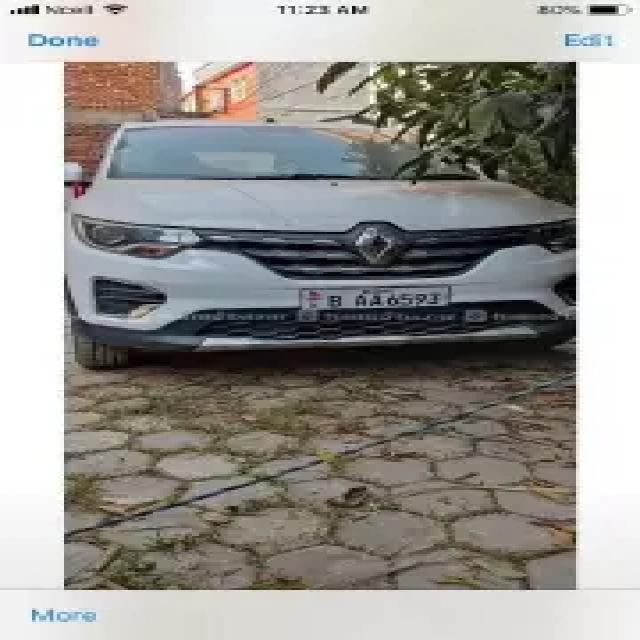License-plate: (296, 283, 462, 317)
